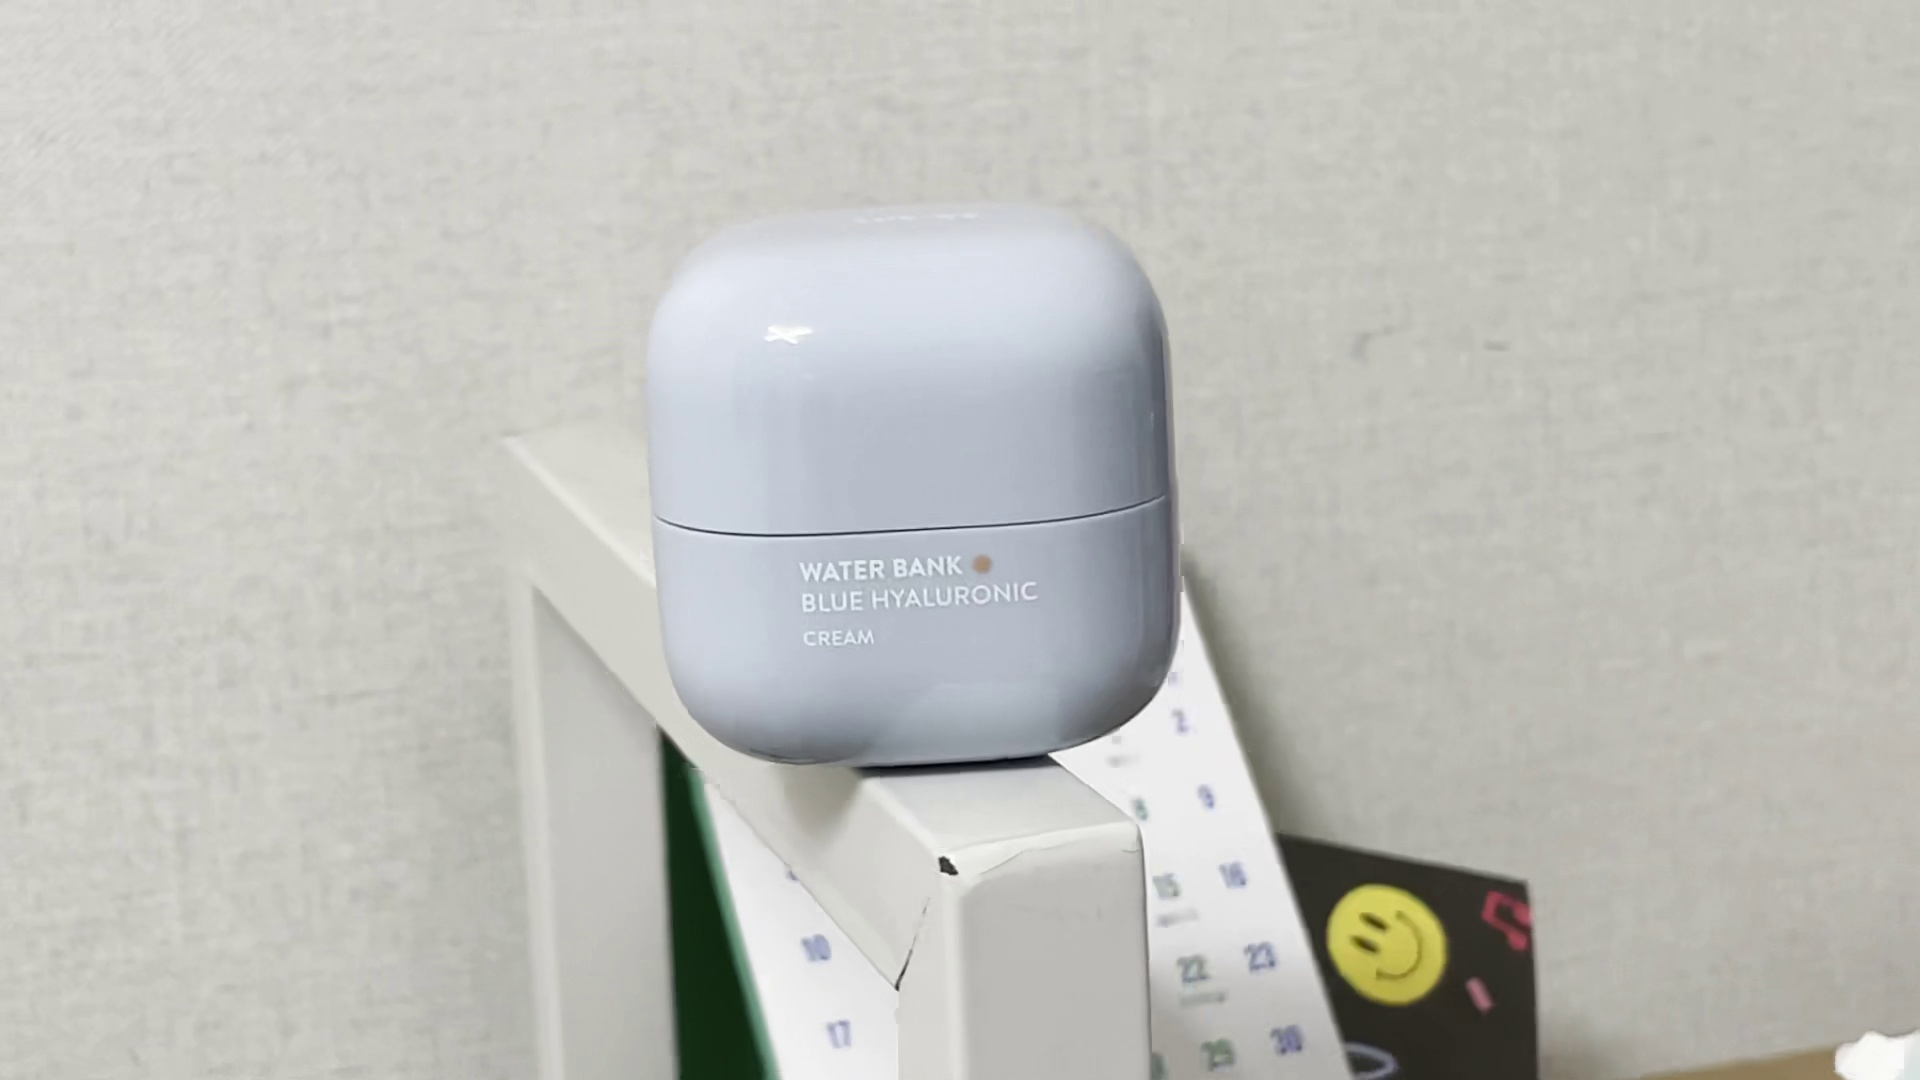cream: (642, 199, 1182, 775)
